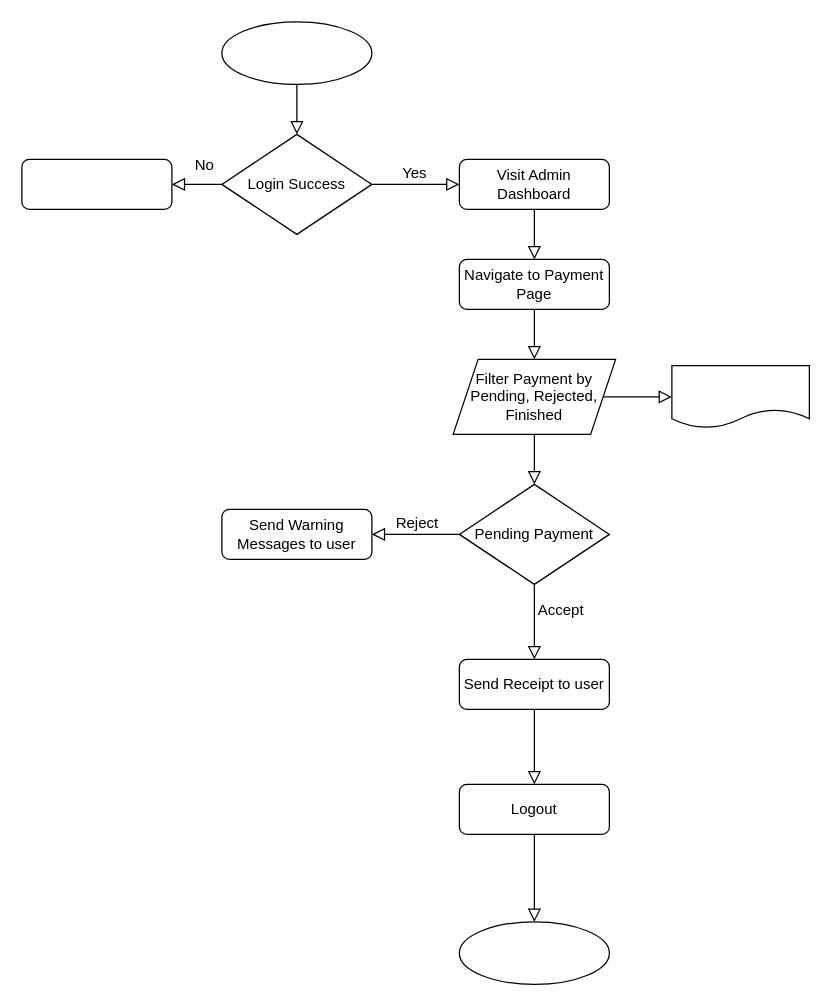
This 831x1006 diagram has some shape labels left out. The shapes that lost their labels are listed below. From the top down, each one's centre as x and y in pixels, then its label:
At (x=296, y=52): "Start".
At (x=96, y=183): "Show Error and Retry Login".
At (x=740, y=396): "Generate Payment Report".
At (x=533, y=952): "End".
